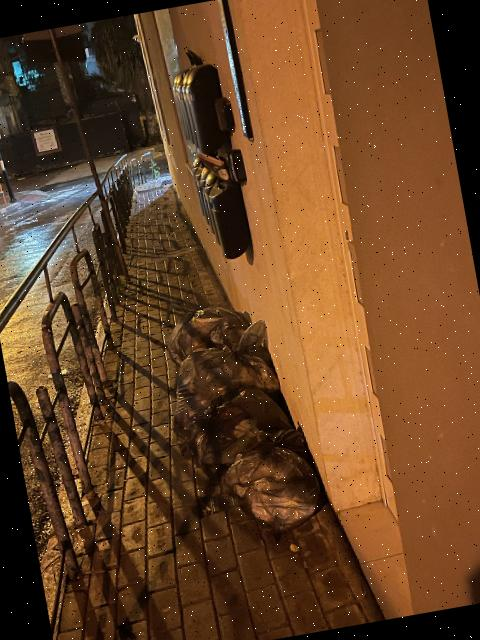Recyclable -Grey-: (175, 388, 291, 466), (222, 441, 320, 533), (176, 347, 279, 418), (167, 306, 251, 362)
